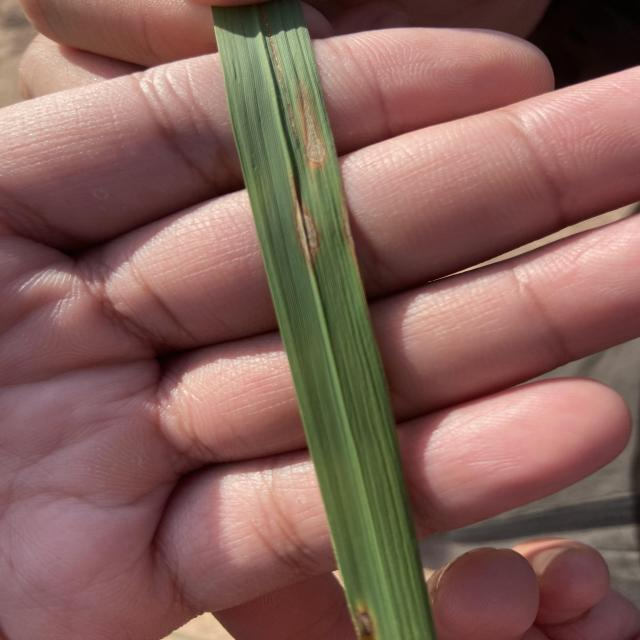Dao on: (297, 85, 327, 170), (295, 199, 321, 268), (343, 199, 355, 249)
